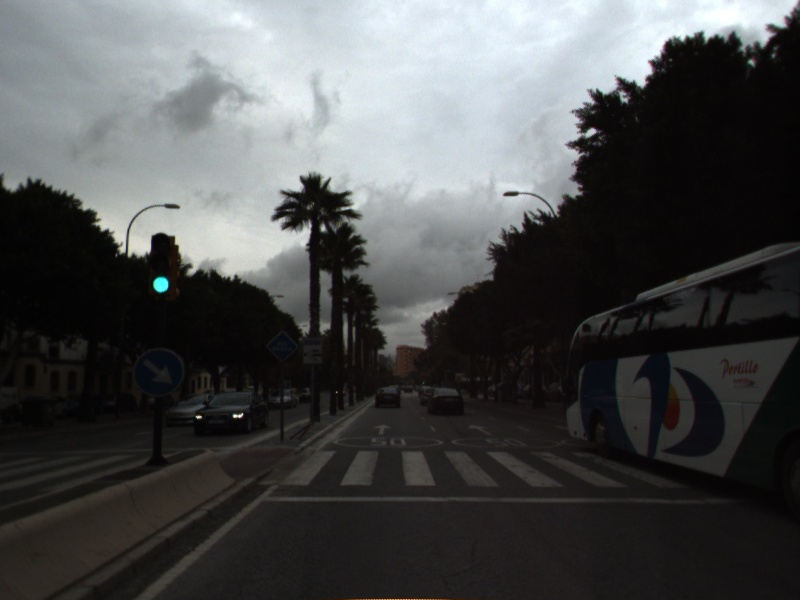STRAIGHT: (466, 422, 494, 438), (371, 421, 394, 437)
